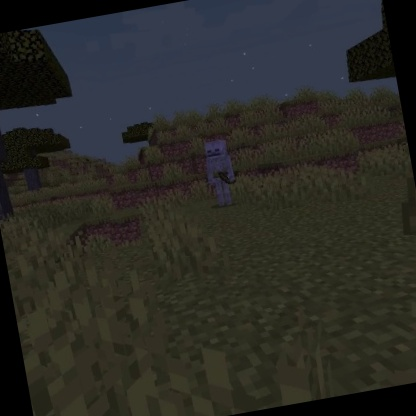skeleton: (196, 134, 246, 212)
